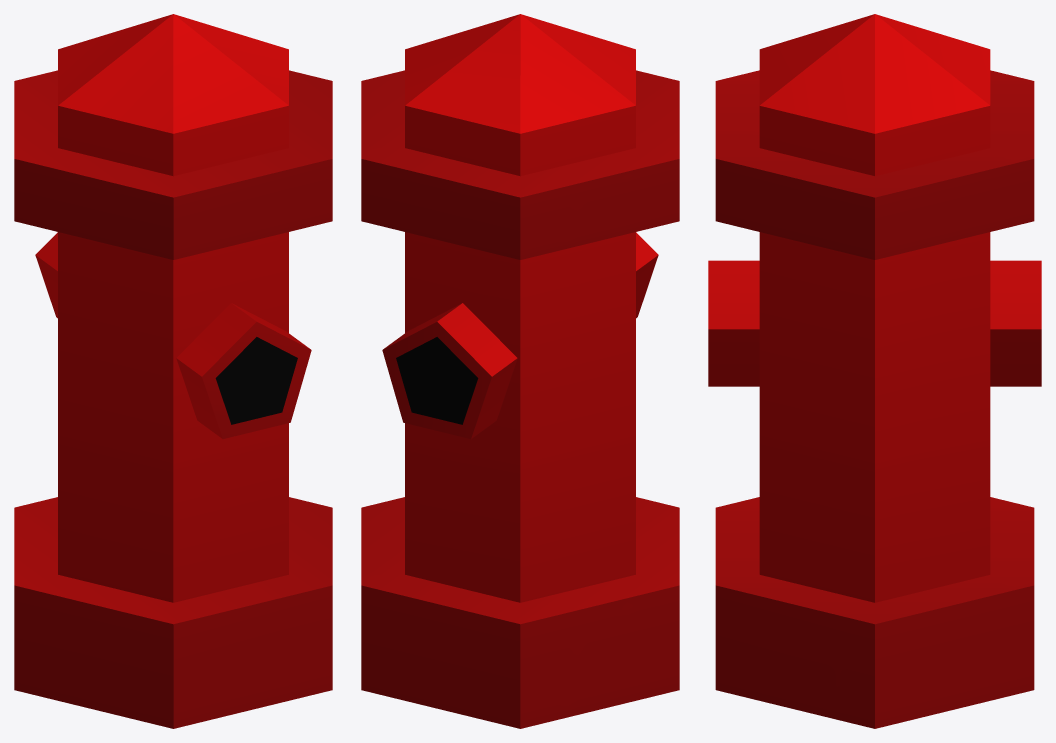
The model's file is SM_Hydrant.FBX.
3 renders of one model, left to right at view 1: azimuth 30°, elevation 25°; view 2: azimuth 150°, elevation 25°; view 3: azimuth 270°, elevation 25°, orthographic.
Parts seen in each view (by area): view 1: SM_Hydrant; view 2: SM_Hydrant; view 3: SM_Hydrant.
Boxes of the visible parts, x1,y1,x2,y2 form: SM_Hydrant: (14, 14, 332, 728); SM_Hydrant: (361, 14, 679, 728); SM_Hydrant: (708, 14, 1041, 728).
Size of what is drawn, in the model's own units: 38.63 by 35 by 73.83.
